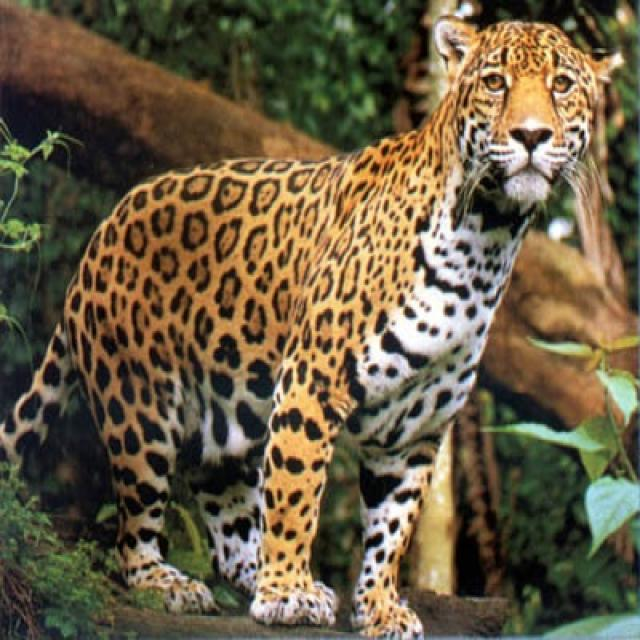Jaguar: (10, 21, 618, 638)
